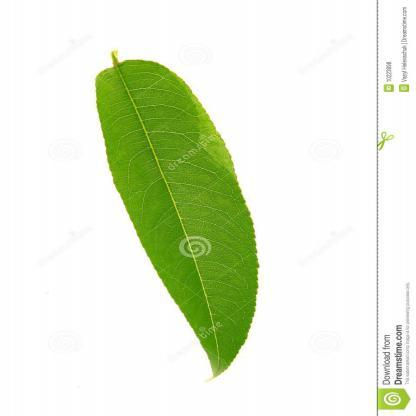Peach leaf: (92, 49, 262, 390)
